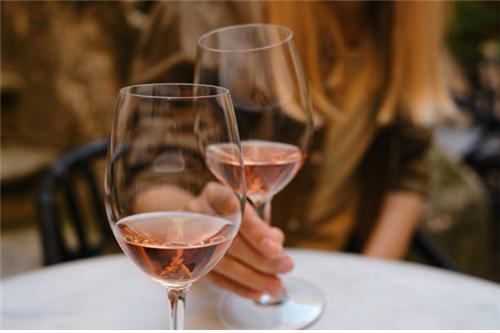alcohol: (189, 22, 327, 326), (105, 84, 246, 329)
